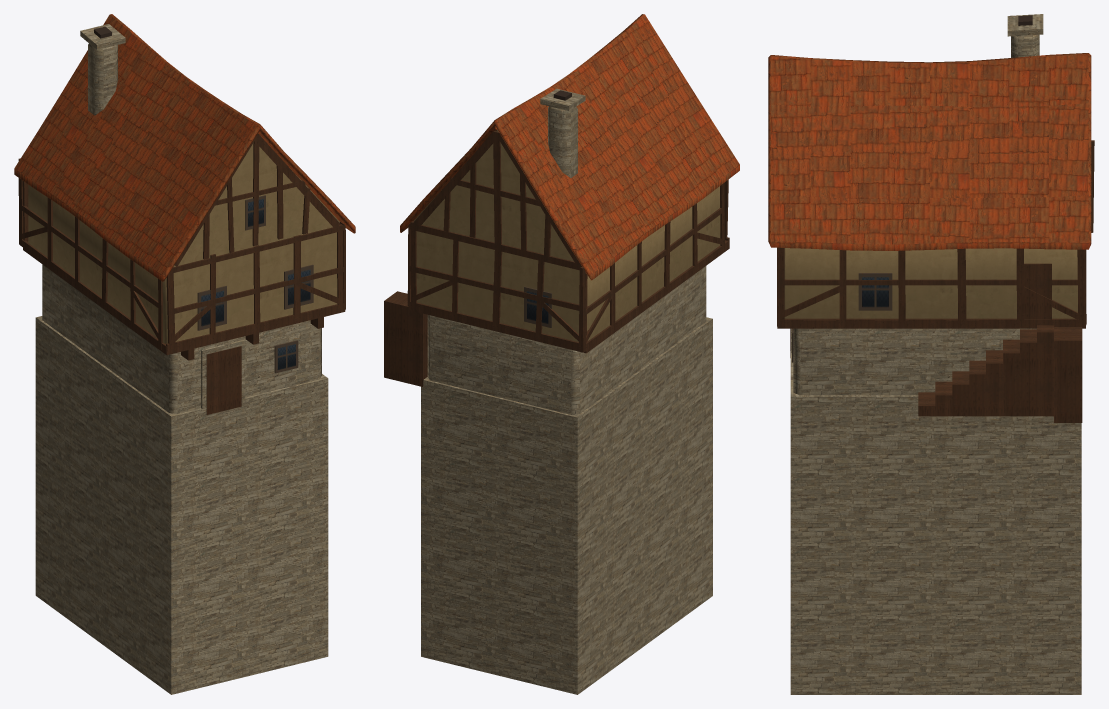
The model's file is townhouse_b.glb.
3 views of the same model, side by side, from view 1: azimuth 30°, elevation 25°; view 2: azimuth 150°, elevation 25°; view 3: azimuth 270°, elevation 25° (orthographic). The views are drawn at different scales.
Visible parts, largest first — view 1: townhouse_b_export; view 2: townhouse_b_export; view 3: townhouse_b_export.
Part boxes in pixels (box(x1,y1,x2,y2)): townhouse_b_export: box(14, 14, 355, 694); townhouse_b_export: box(384, 14, 739, 694); townhouse_b_export: box(768, 14, 1094, 694).
Size of the model in its own units: 15.28 by 39.6 by 19.
Materials: 5 (5 with a texture image).
